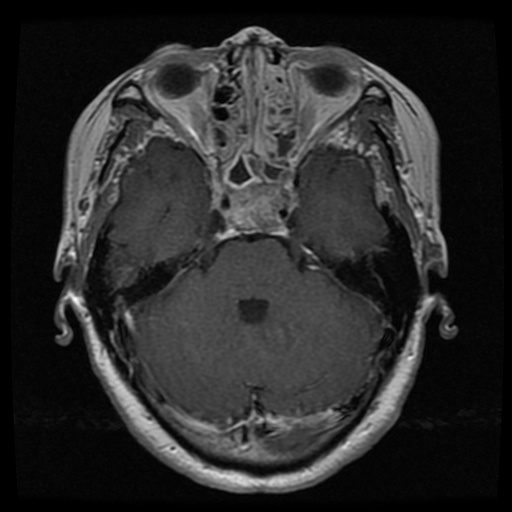pituitary: (227, 178, 279, 229)
